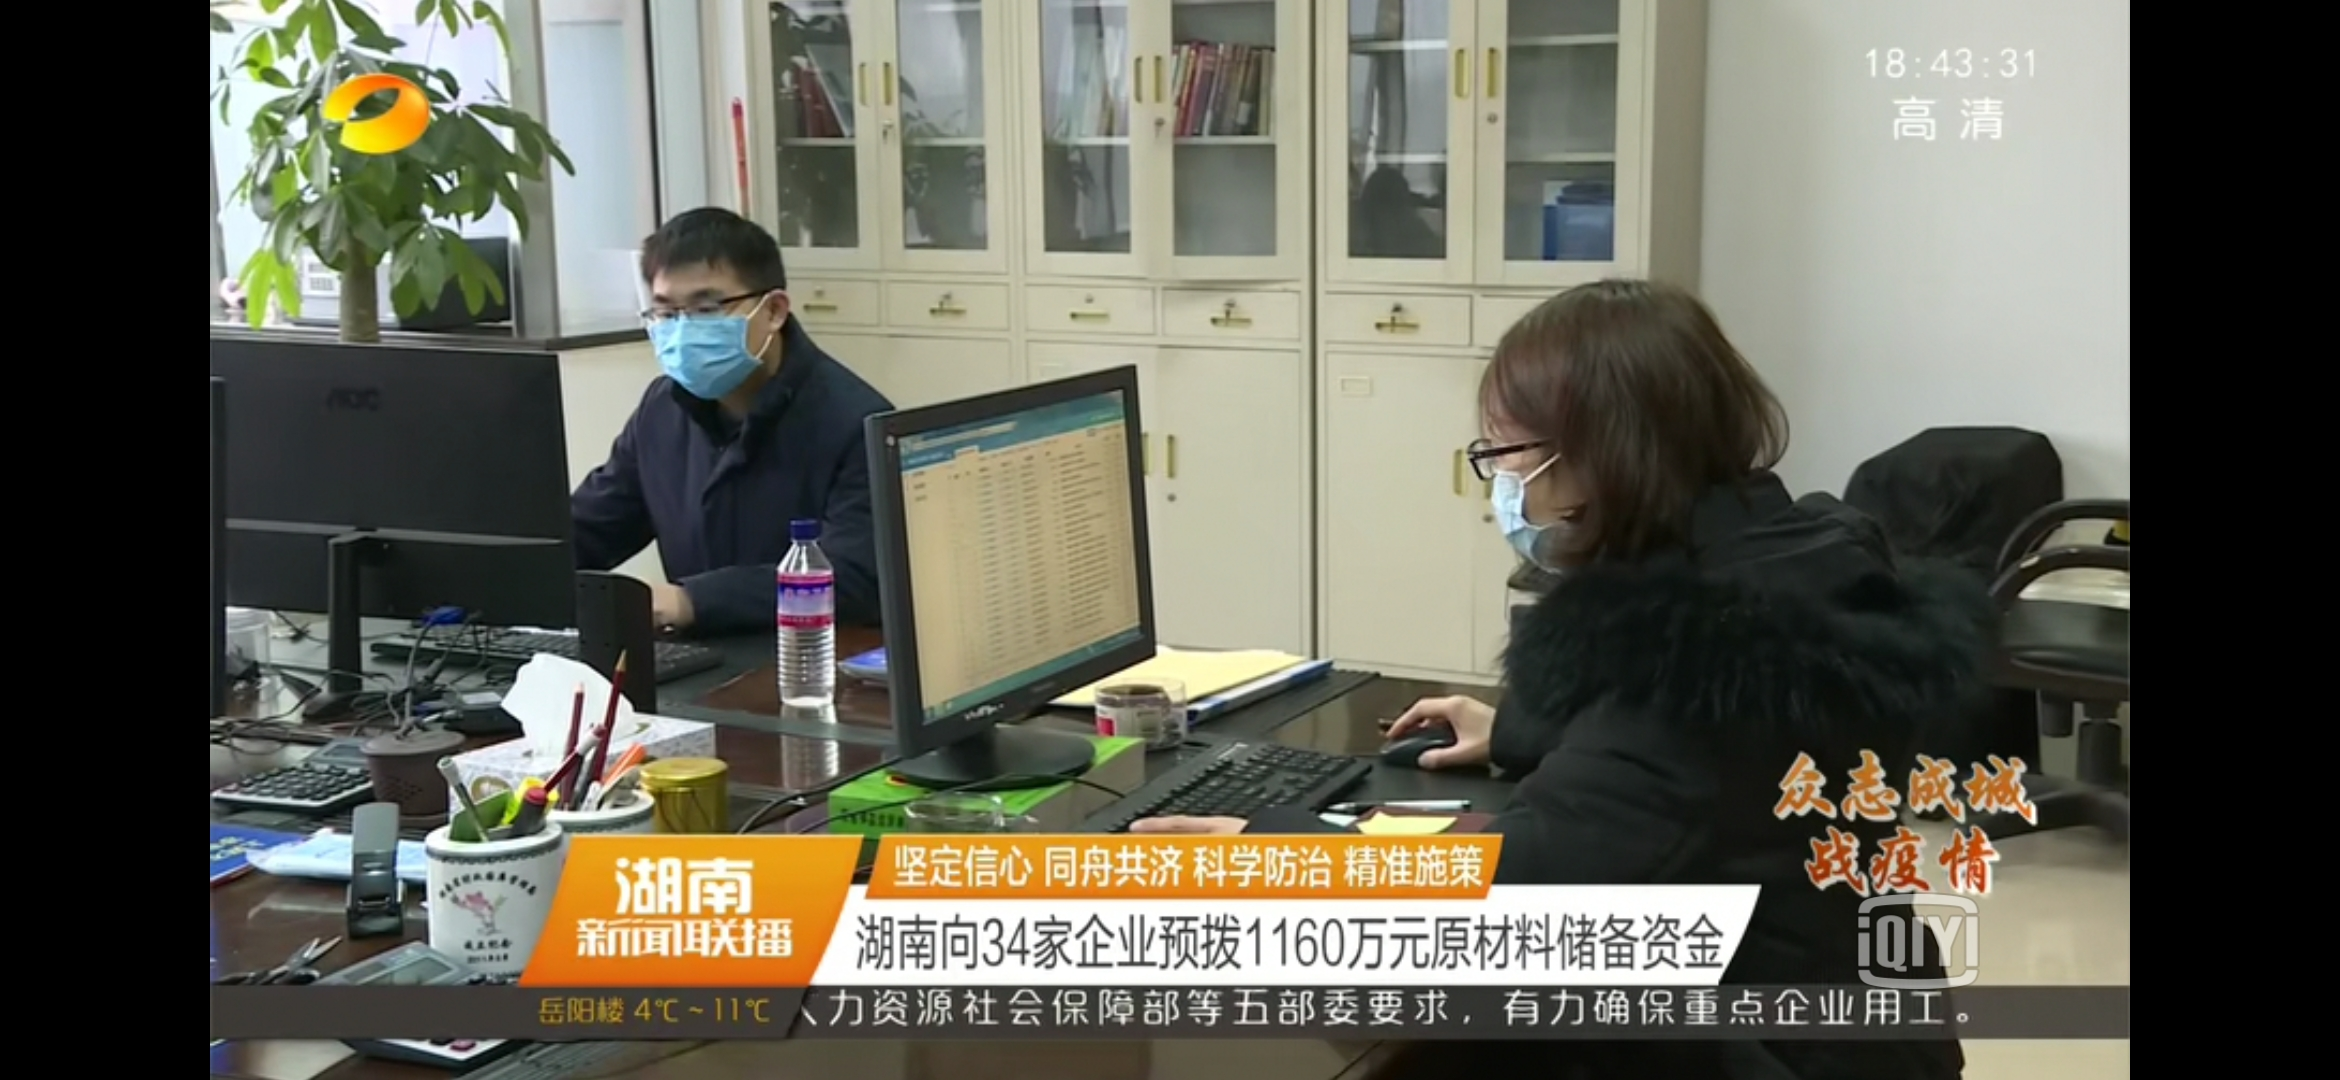correctlyWear: (1465, 392, 1601, 583), (642, 274, 794, 406)
